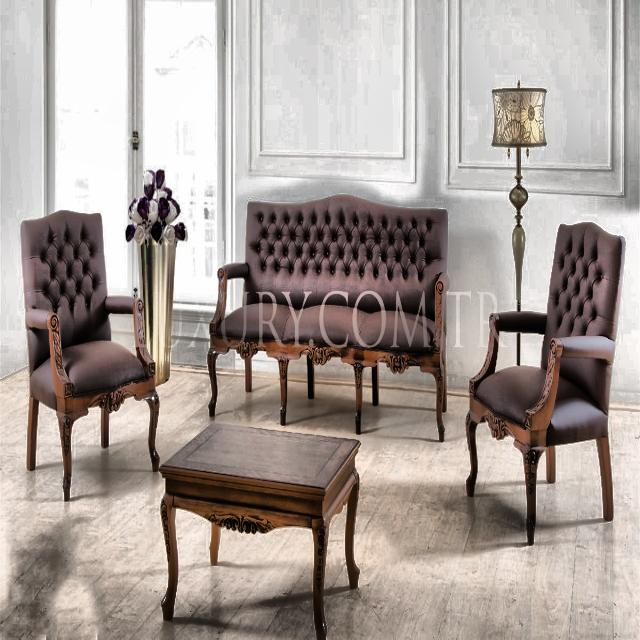sofa: (207, 193, 450, 441)
